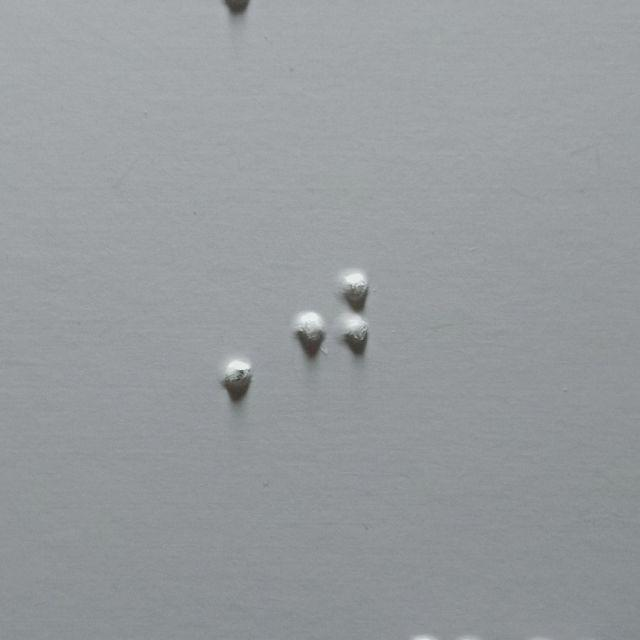J: (295, 266, 368, 405)
capital: (183, 261, 256, 401)
